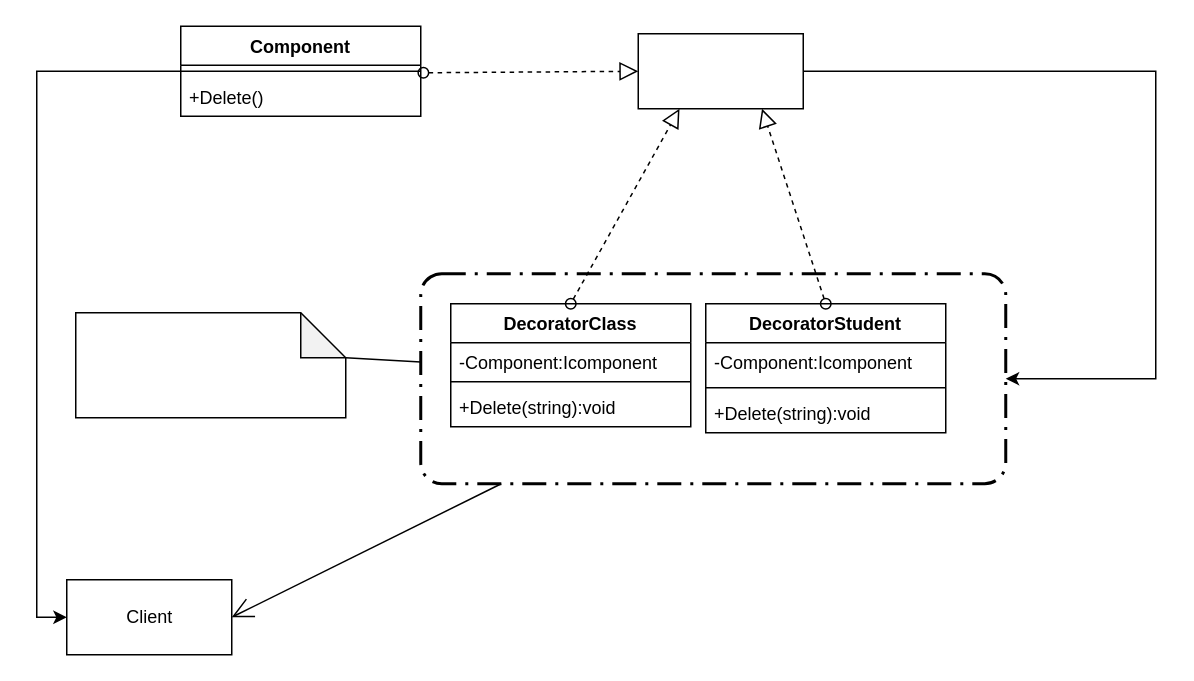
This 1194x681 diagram has some shape labels left out. Here are the shapes that lost their labels. From the top down, the box of each, then its label:
(637, 32, 803, 109): «interface» IComponent
(74, 311, 346, 418): calls the stored component's Delete
